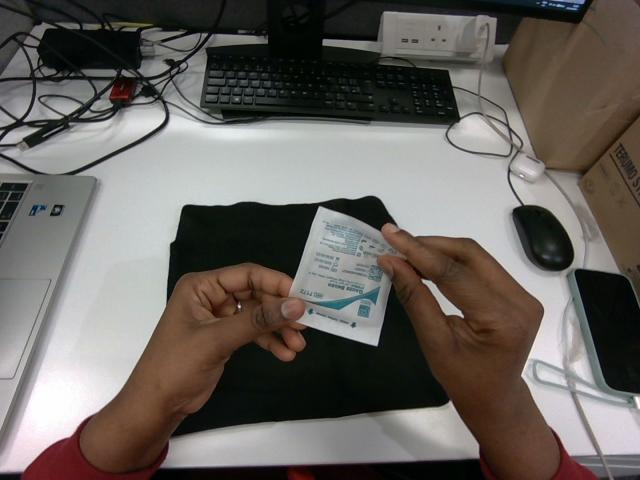gauze: (290, 207, 401, 345)
